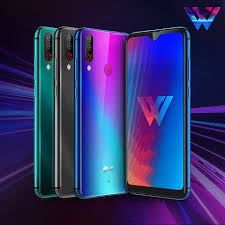lg: (121, 24, 196, 200)
